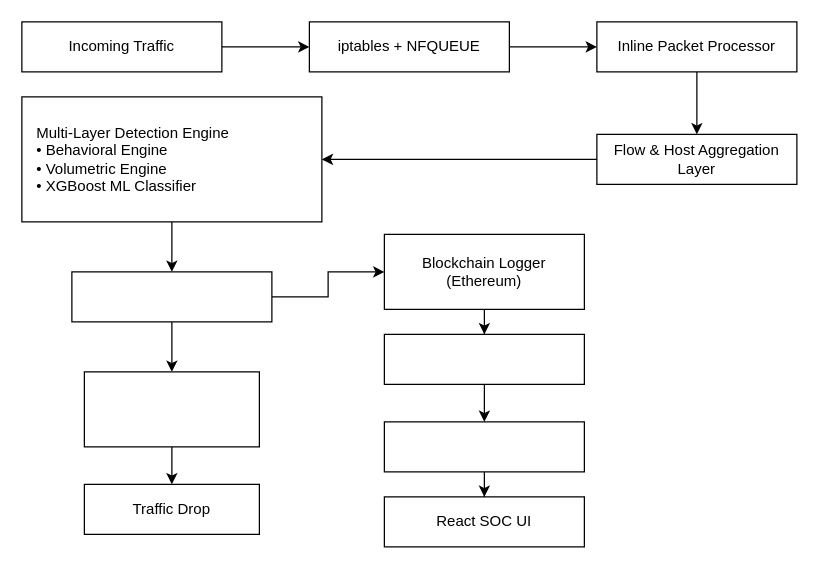
The diagram is 819 pixels wide and 569 high, and some of its shapes have lost their labels. Each missing label, with the centre of its shape:
"Attack Session Manager" goes at (171,296).
"Block Manager (iptables)" goes at (171,409).
"FastAPI Backend" goes at (483,446).
"Smart Contract Transaction" goes at (483,358).
